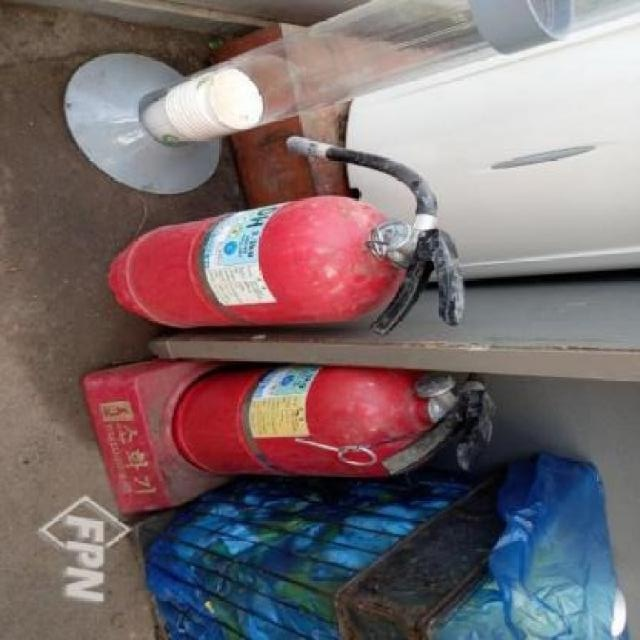fire extinguisher: (108, 135, 466, 336), (170, 366, 495, 477)
